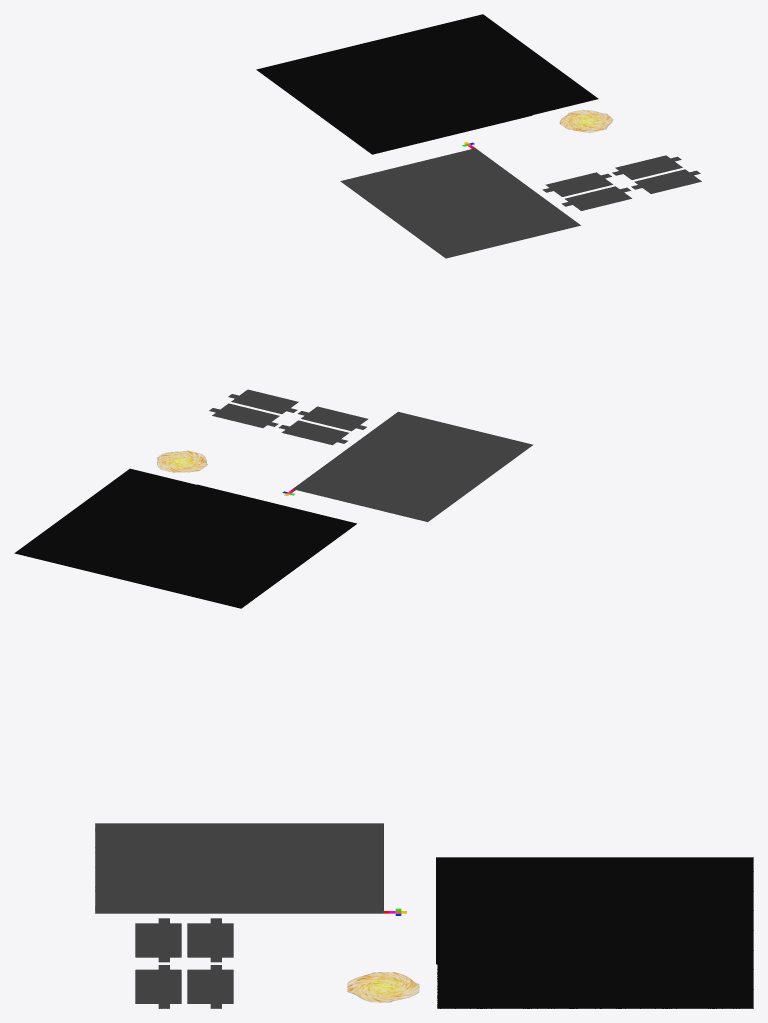
File: contained_black_hole_accretion_disc_TEST.obj
The picture shows the model from 3 angles, top to bottom: view 1: azimuth 30°, elevation 25°; view 2: azimuth 150°, elevation 25°; view 3: azimuth 270°, elevation 25°; orthographic projection. The views are drawn at different scales.
Visible parts, largest first — view 1: pPlane5, pPlane4; view 2: pPlane5, pPlane4; view 3: pPlane5, pPlane4.
Part boxes in pixels (left/top/right/bottom): pPlane5: left=256, top=14, right=701, bottom=258; pPlane4: left=271, top=15, right=699, bottom=255; pPlane5: left=14, top=389, right=533, bottom=608; pPlane4: left=16, top=395, right=528, bottom=602; pPlane5: left=95, top=823, right=753, bottom=1008; pPlane4: left=95, top=823, right=751, bottom=1008.
Bounding box in the file's own units: 2 × 0 × 2.
1 material, 1 textured.
